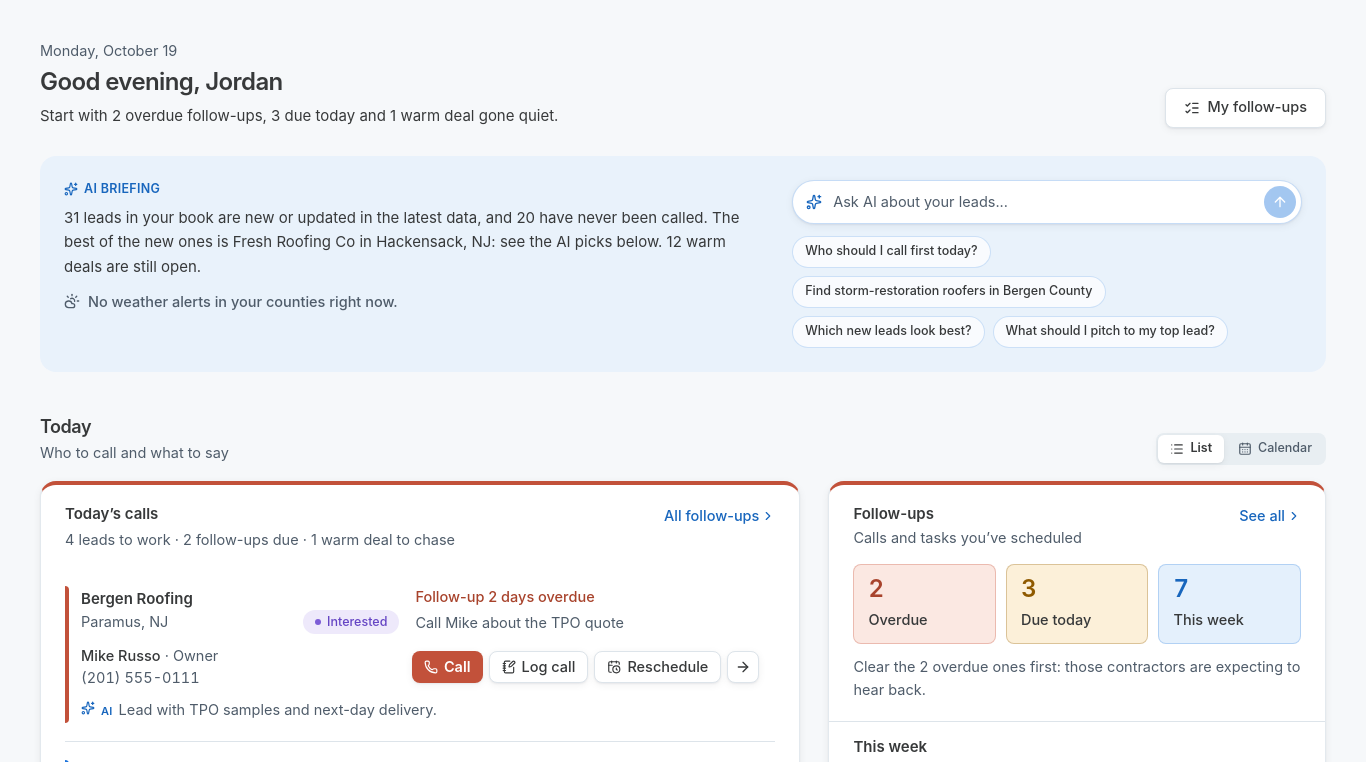
Test case: DashboardPage (rep) › keeps working when storage throws
This screenshot has width=1366, height=762.
What coordinates should you click on to do the following:
click the radio button labelled "Calendar"
I would click on:
 (1275, 449)
Its box is [1226,435,1324,463].
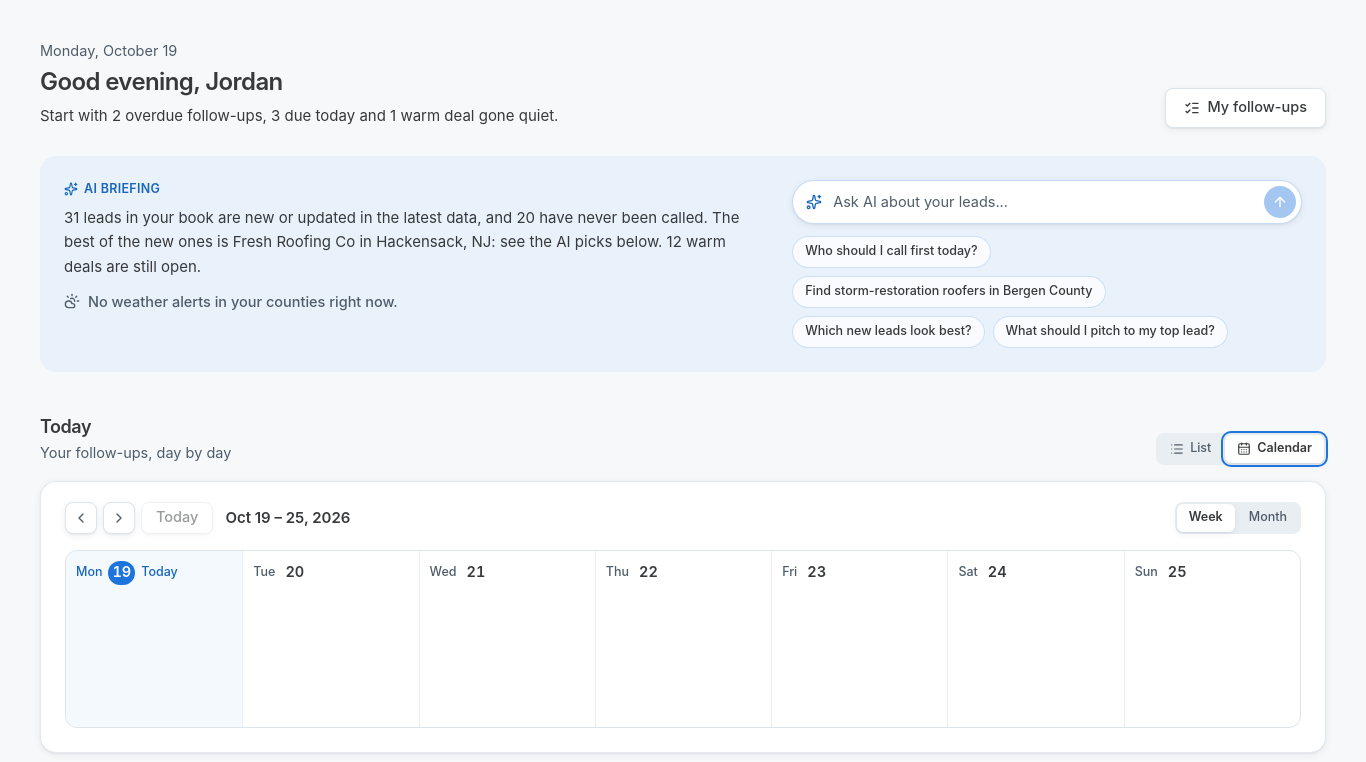
Result: the element named "Follow-up calendar" is shown at [40,481,1326,753]
